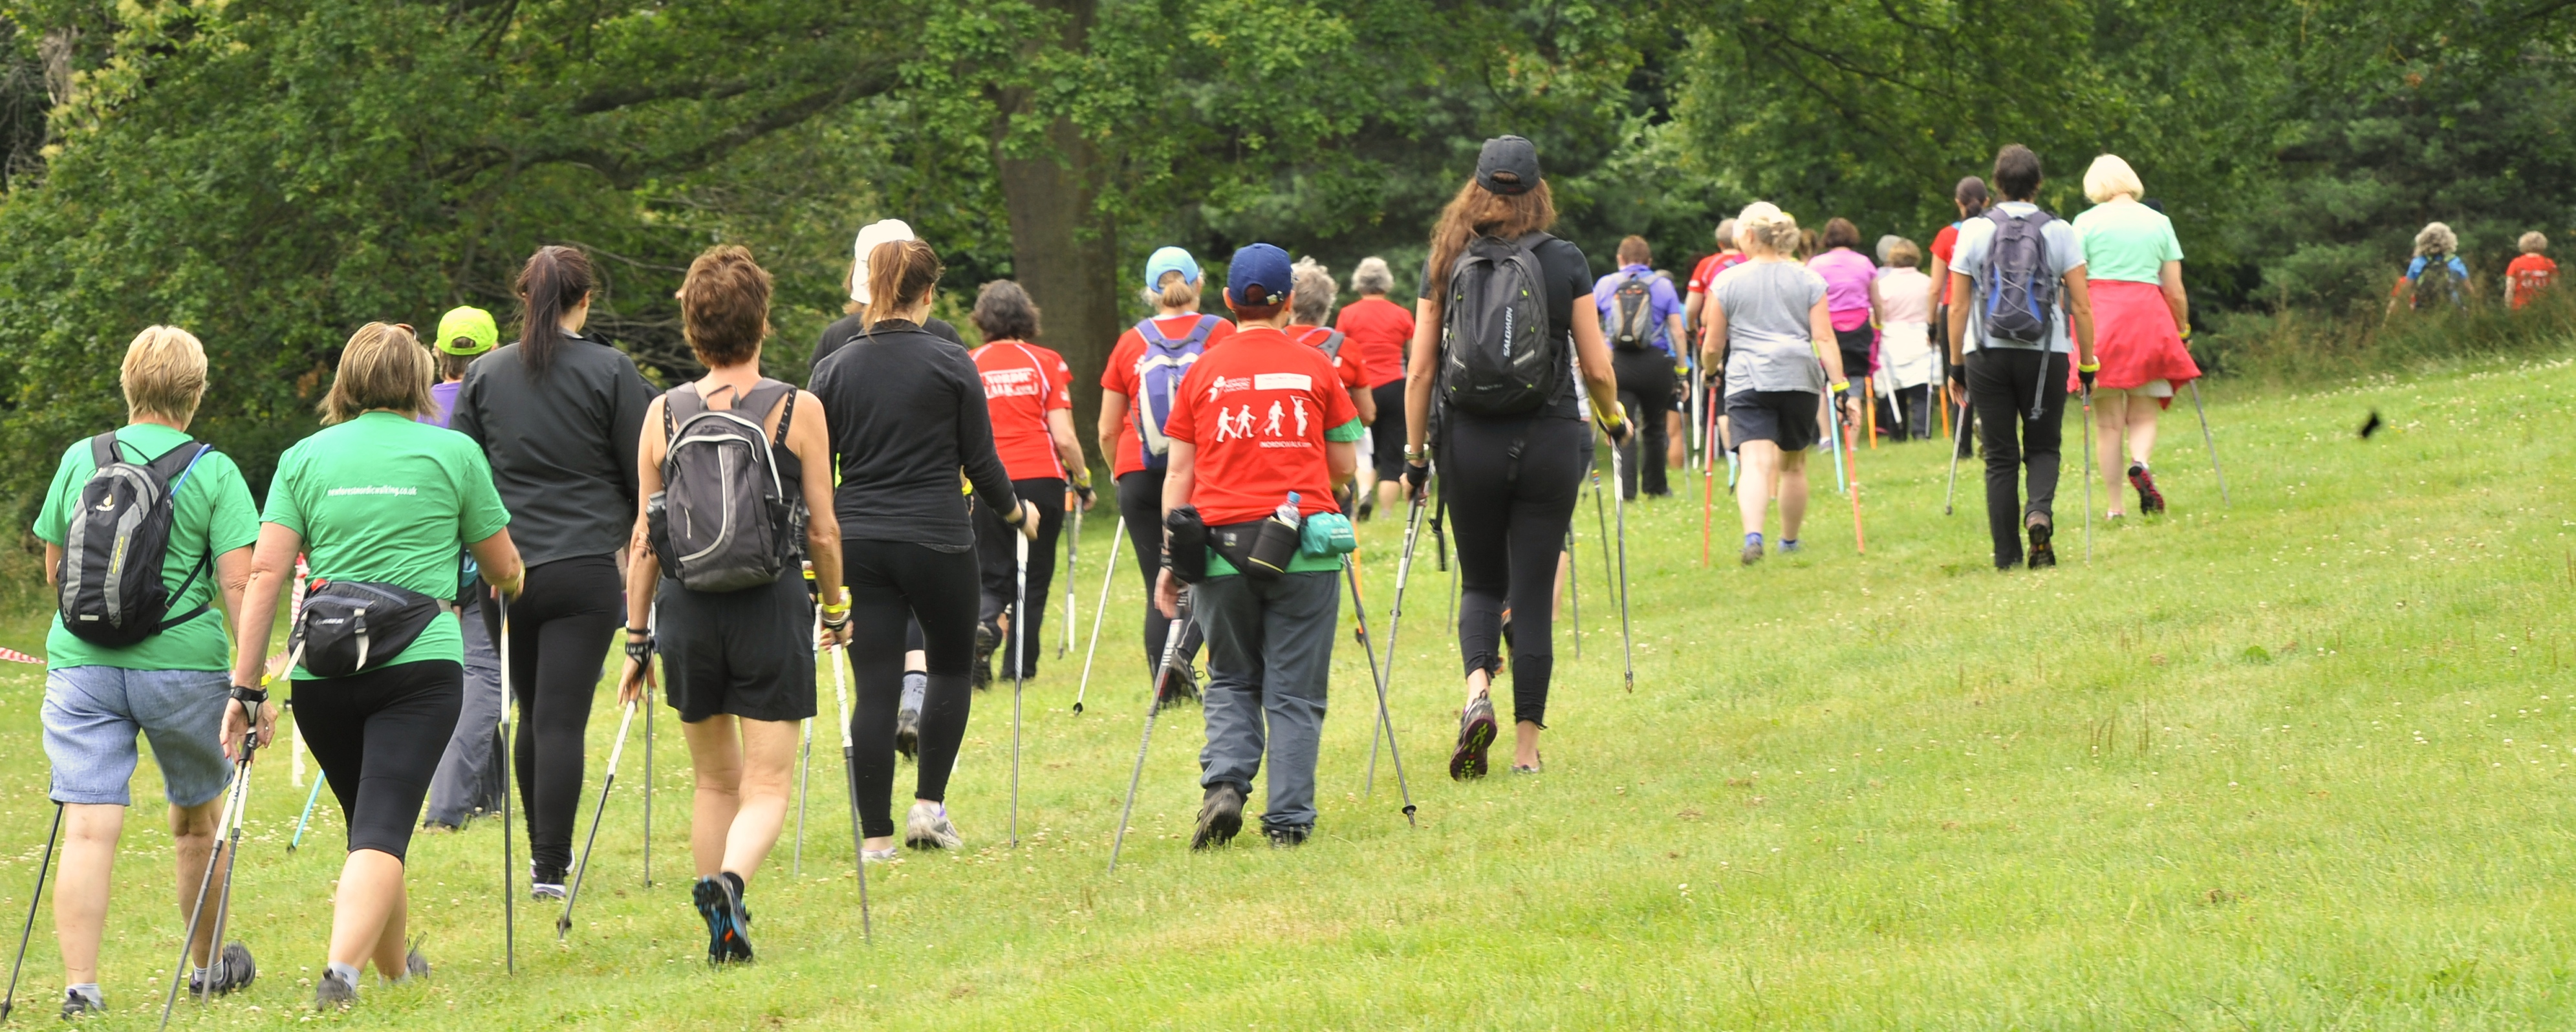feet: (1421, 656, 1562, 804), (289, 904, 445, 1014), (38, 947, 268, 1020), (1181, 756, 1319, 873), (830, 767, 974, 868), (669, 855, 795, 965), (414, 746, 518, 843), (958, 598, 1055, 697), (1130, 624, 1211, 731), (1978, 506, 2082, 583), (1722, 501, 1819, 575), (2075, 457, 2170, 529), (1600, 439, 1684, 514), (509, 836, 588, 907)
